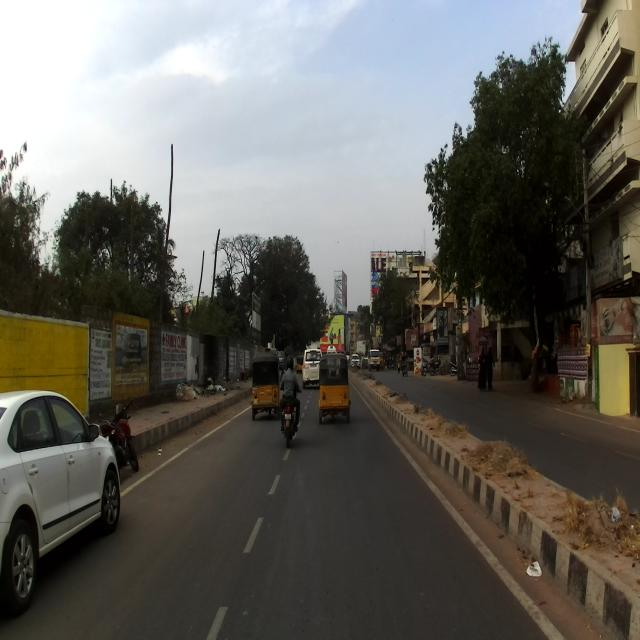auto ahead at: (318, 350, 349, 421), (248, 352, 280, 416)
car ahead at: (0, 378, 123, 614)
motorcycle ahead at: (114, 402, 138, 476)
